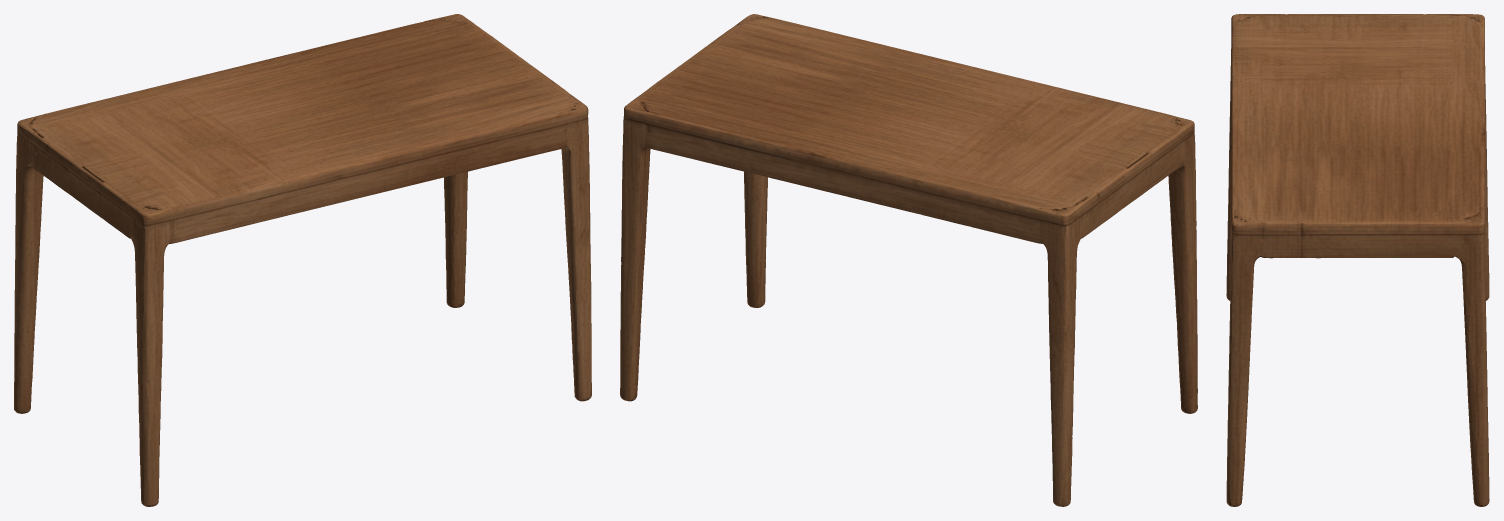
Rendered from L_DESK.glb.
The picture shows the model from 3 angles, left to right: view 1: azimuth 30°, elevation 25°; view 2: azimuth 150°, elevation 25°; view 3: azimuth 270°, elevation 25°; orthographic projection. The views are drawn at different scales.
Parts seen in each view (by area): view 1: world; view 2: world; view 3: world.
Boxes of the visible parts, x1,y1,x2,y2 form: world: [14, 14, 591, 506]; world: [620, 14, 1197, 506]; world: [1226, 14, 1489, 506].
Bounding box in the file's own units: 1.4 × 0.8717 × 0.7313.
1 material, 1 textured.
